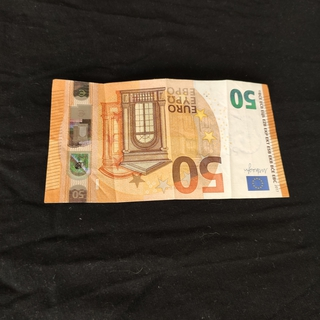50EUROFront: (43, 77, 290, 204)
